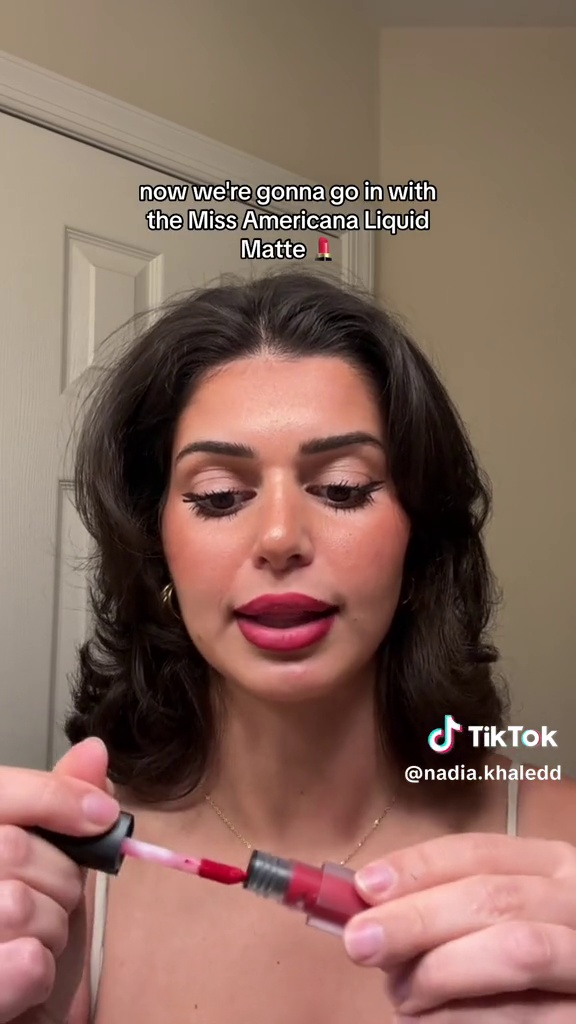train' :'yolo_data/train/images',: (237, 821, 404, 947), (56, 790, 235, 898)
